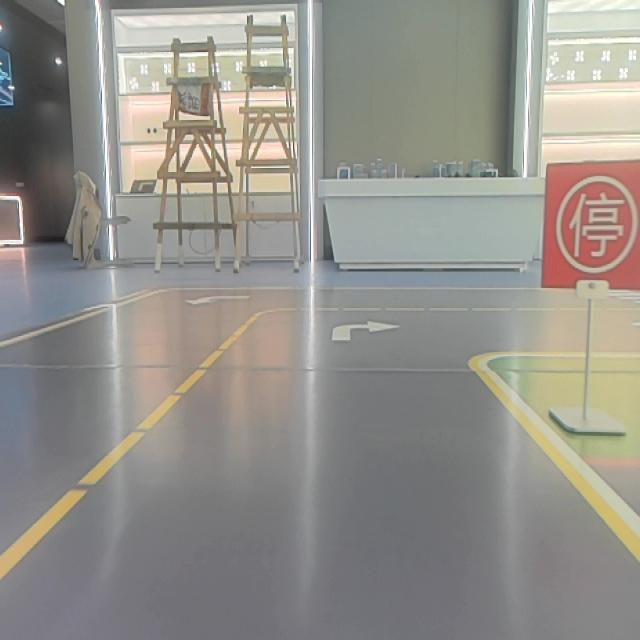left_lane: (0, 314, 262, 589)
right_lane: (470, 370, 640, 564), (0, 289, 149, 355)
